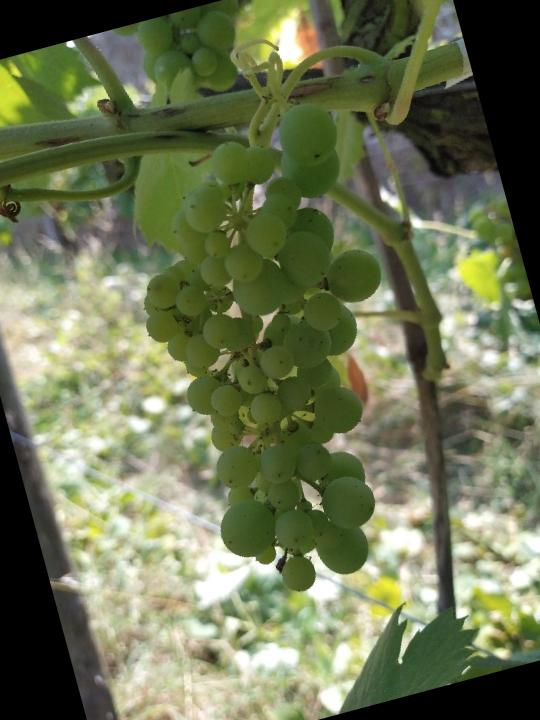grape: (95, 91, 457, 617)
